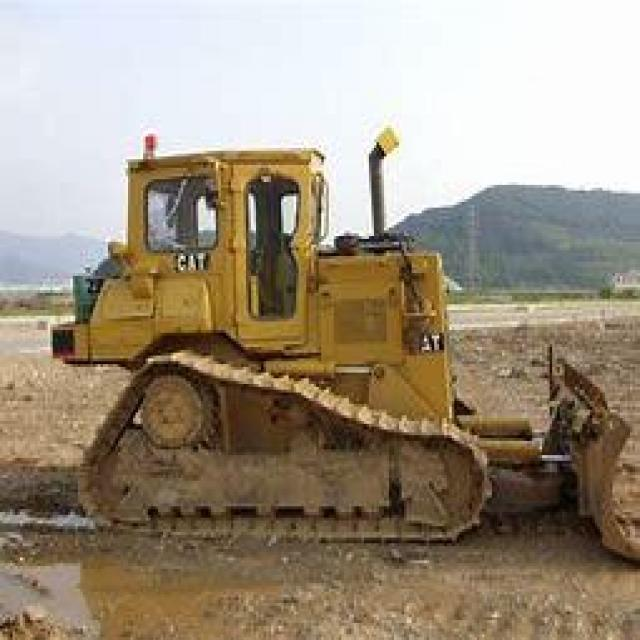Bulldozer: (43, 114, 635, 563)
